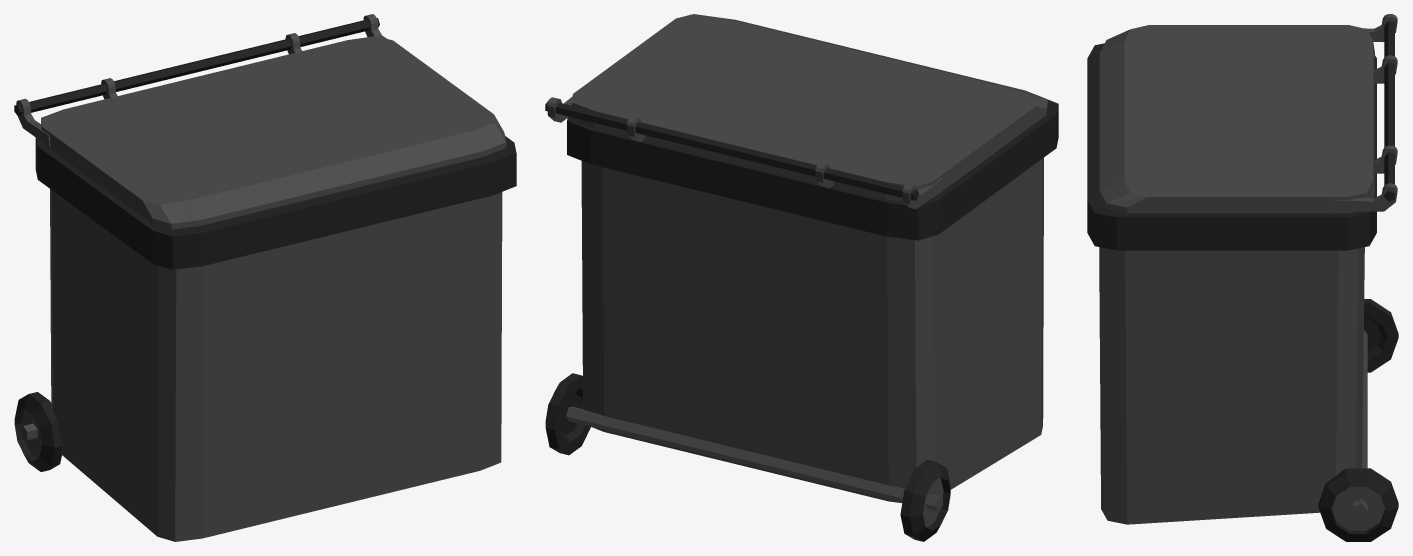
File: SM_garbagecan_05.fbx
The picture shows the model from 3 angles, left to right: view 1: azimuth 30°, elevation 25°; view 2: azimuth 150°, elevation 25°; view 3: azimuth 270°, elevation 25°; orthographic projection. The views are drawn at different scales.
Visible parts, largest first — view 1: Object154; view 2: Object154; view 3: Object154.
Boxes of the visible parts, <box> form: Object154: <box>14,14,516,541</box>; Object154: <box>545,14,1058,541</box>; Object154: <box>1087,14,1398,541</box>.
Size of the model in its own units: 64.91 by 58.5 by 46.54.
